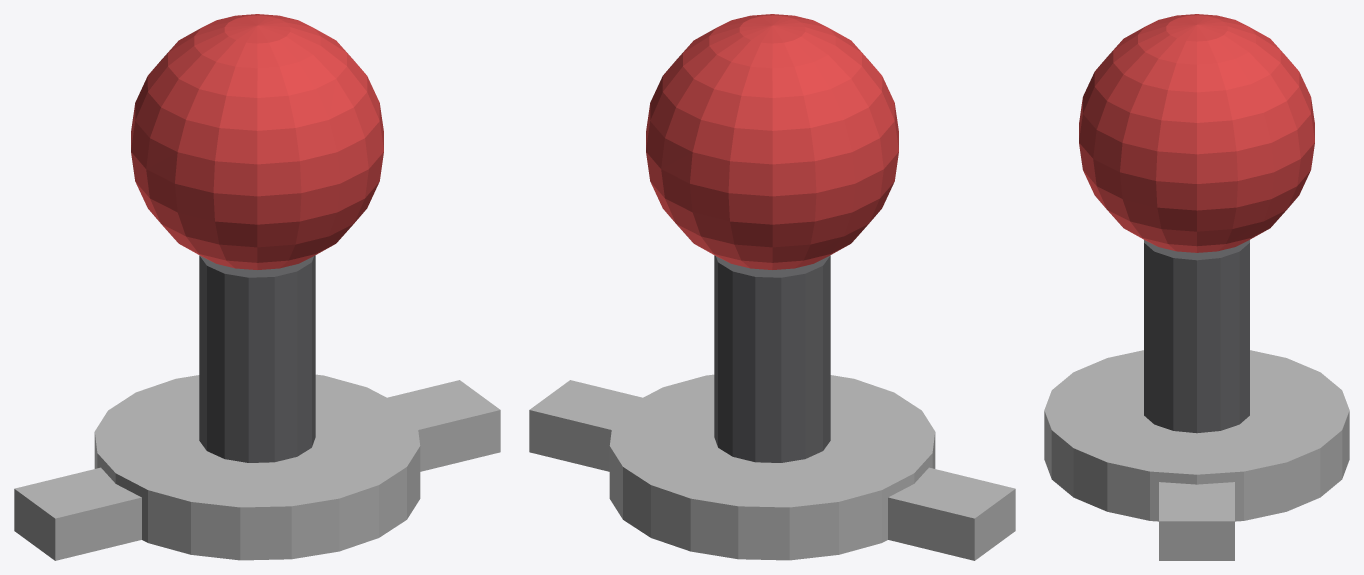
Rendered from vge_pos_beacon_red.obj.
3 renders of one model, left to right at view 1: azimuth 30°, elevation 25°; view 2: azimuth 150°, elevation 25°; view 3: azimuth 270°, elevation 25°, orthographic. The views are drawn at different scales.
Parts seen in each view (by area): view 1: vge_pos_beacon_red_4, vge_pos_beacon_red_0, vge_pos_beacon_red_3, vge_pos_beacon_red_1, vge_pos_beacon_red_2; view 2: vge_pos_beacon_red_4, vge_pos_beacon_red_0, vge_pos_beacon_red_3, vge_pos_beacon_red_1, vge_pos_beacon_red_2; view 3: vge_pos_beacon_red_4, vge_pos_beacon_red_0, vge_pos_beacon_red_3, vge_pos_beacon_red_2.
Boxes of the visible parts, x1,y1,x2,y2 form: vge_pos_beacon_red_4: (131, 14, 383, 269); vge_pos_beacon_red_0: (94, 374, 420, 560); vge_pos_beacon_red_3: (199, 255, 315, 462); vge_pos_beacon_red_1: (14, 467, 141, 560); vge_pos_beacon_red_2: (387, 380, 500, 471); vge_pos_beacon_red_4: (646, 14, 898, 269); vge_pos_beacon_red_0: (609, 374, 935, 560); vge_pos_beacon_red_3: (714, 255, 830, 462); vge_pos_beacon_red_1: (888, 467, 1015, 560); vge_pos_beacon_red_2: (529, 380, 642, 471); vge_pos_beacon_red_4: (1079, 14, 1314, 252); vge_pos_beacon_red_0: (1044, 350, 1349, 521); vge_pos_beacon_red_3: (1144, 240, 1249, 433); vge_pos_beacon_red_2: (1159, 482, 1234, 560).
Size of the model in its own units: 0.88 by 0.88 by 0.56.
